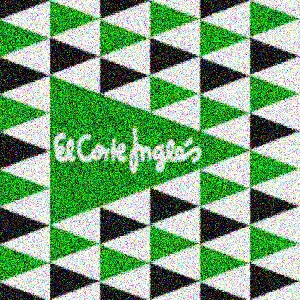corte_ingles: (221, 37, 270, 111)
